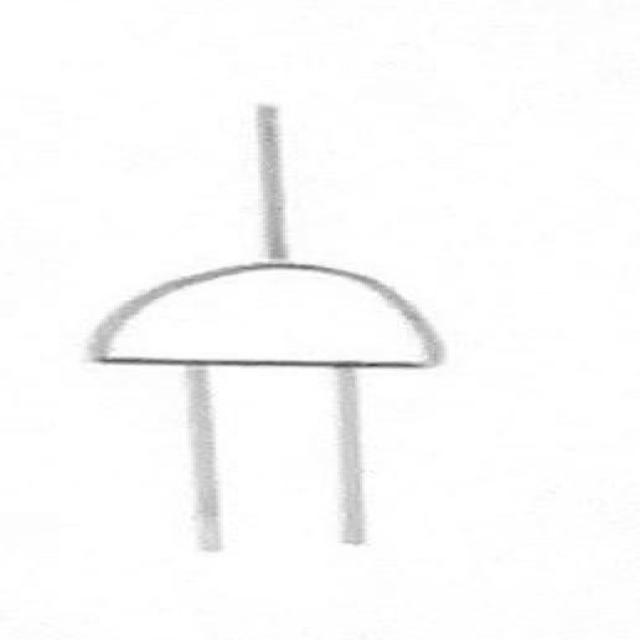AND: (52, 244, 537, 400)
